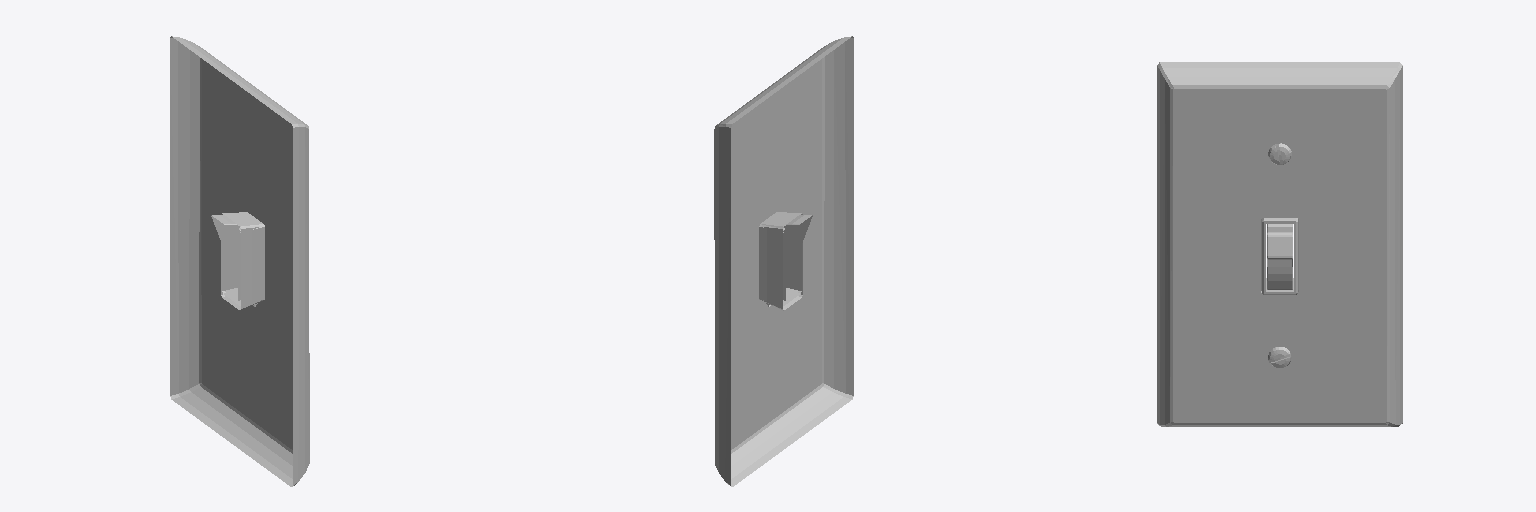
Rendered from LightSwitchOn.obj.
3 views of the same model, side by side, from view 1: azimuth 30°, elevation 25°; view 2: azimuth 150°, elevation 25°; view 3: azimuth 270°, elevation 25° (orthographic).
Visible parts, largest first — view 1: Body, SwitchOn; view 2: Body, SwitchOn; view 3: Body, SwitchOn.
Boxes of the visible parts, x1=… form: Body: x1=170, y1=36, x2=309, y2=486; SwitchOn: x1=211, y1=215, x2=257, y2=306; Body: x1=714, y1=36, x2=853, y2=486; SwitchOn: x1=766, y1=215, x2=812, y2=306; Body: x1=1157, y1=62, x2=1402, y2=426; SwitchOn: x1=1267, y1=224, x2=1292, y2=289.
Bounding box in the file's own units: 0.0253 × 0.1143 × 0.0701.